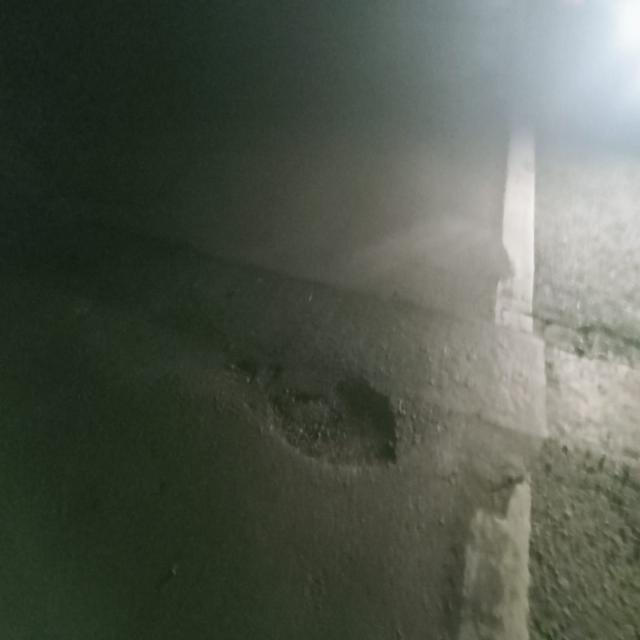Buraco: (260, 372, 404, 471)
